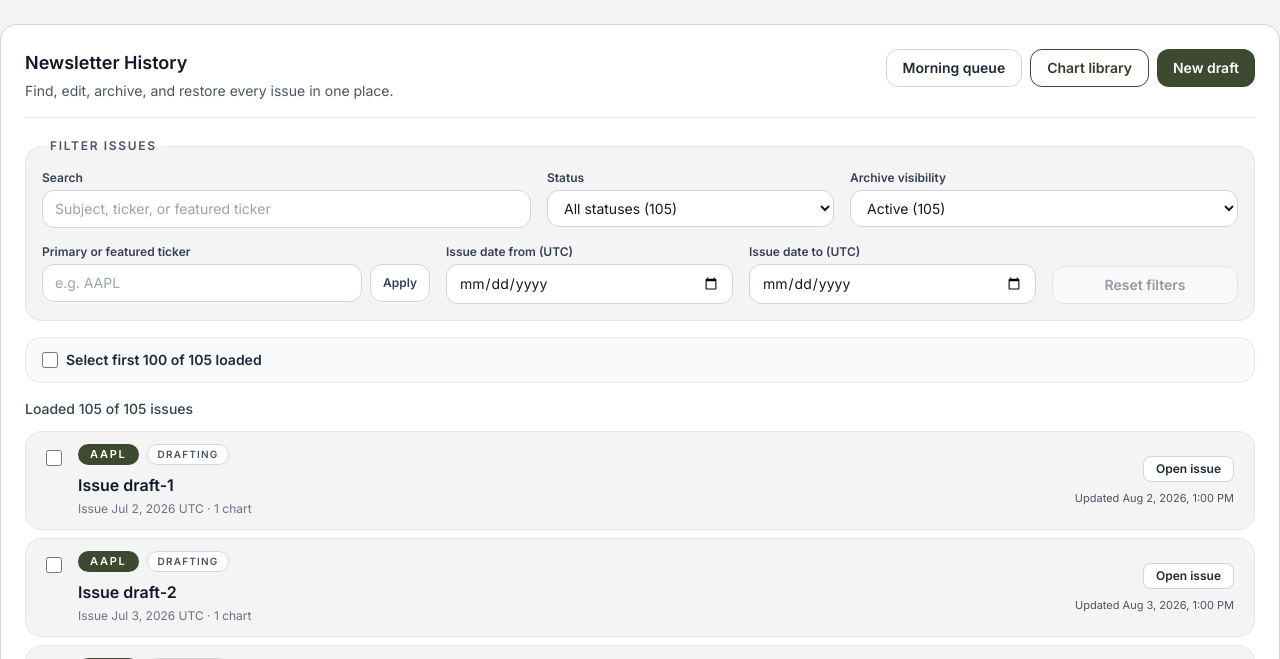
Test: NewsletterDraftsHome › caps loaded-result bulk selection at the transactional server limit
Click the checkbox named "Select first 100 of 105 loaded issues".
click(50, 360)  # box [42,352,58,368]
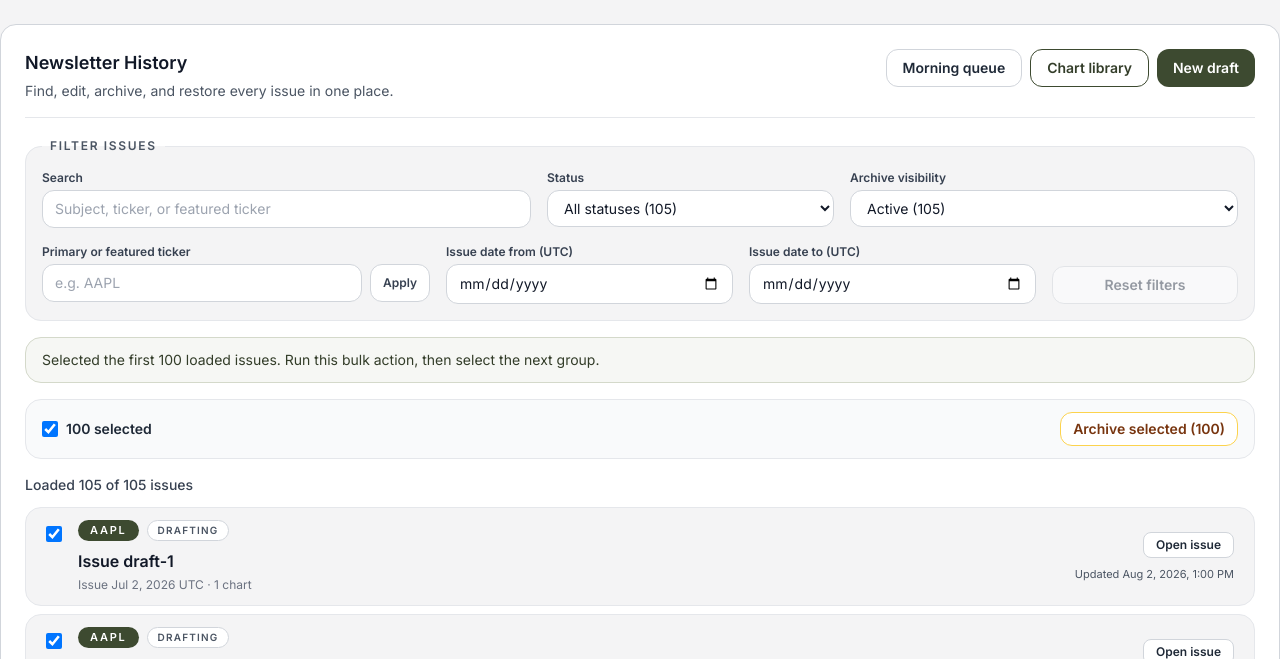
Now the button "Archive selected (100)" is shown, box [1060,412,1238,446]
Now the text "Selected the first 100 loaded issues. Run this bulk action, then select the next group." is shown 2 times
